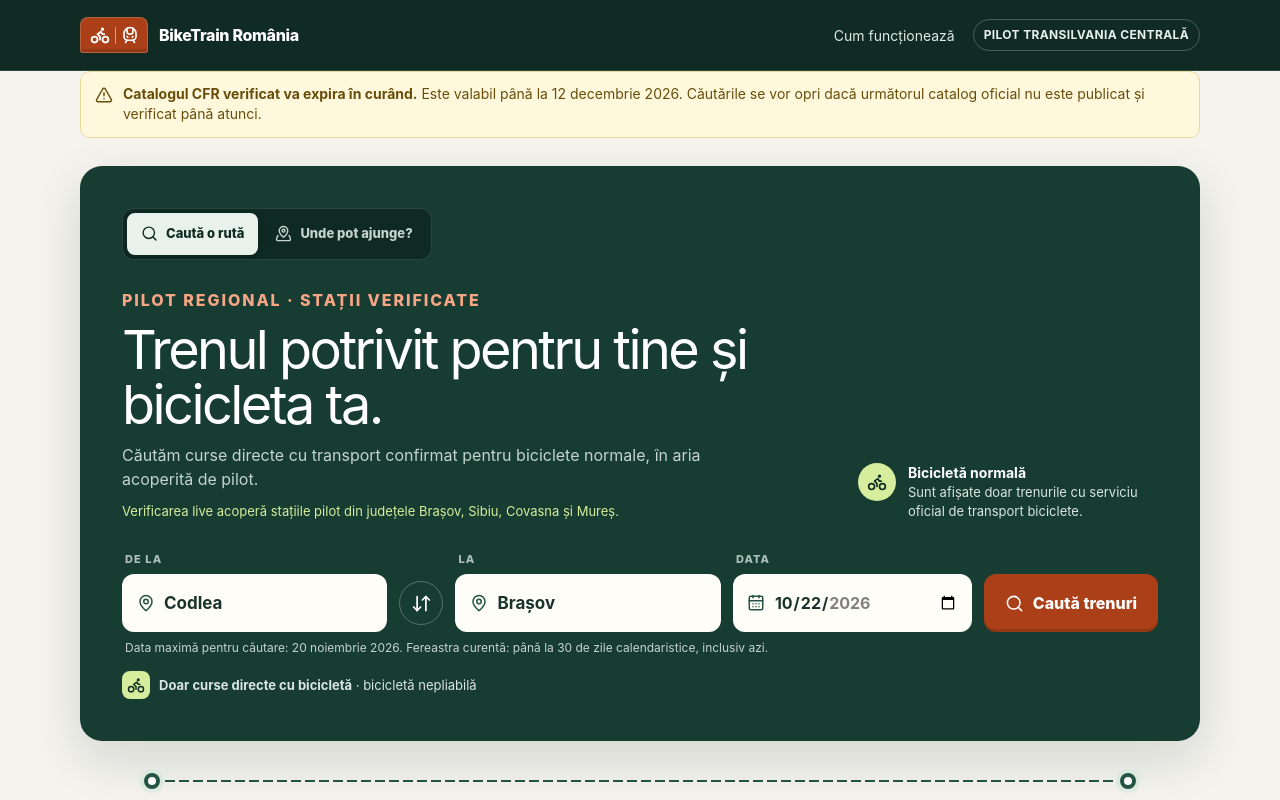
BikeTrain app › swaps departure and arrival stations
Expected: the dropdown labelled "De la" holds "Codlea", left=164, top=576, right=372, bottom=630
Expected: the dropdown labelled "La" holds "Brașov", left=497, top=576, right=706, bottom=630
Click the button named "Inversează direcția" at (421, 604), box left=399, top=582, right=443, bottom=626
(page scrolled)
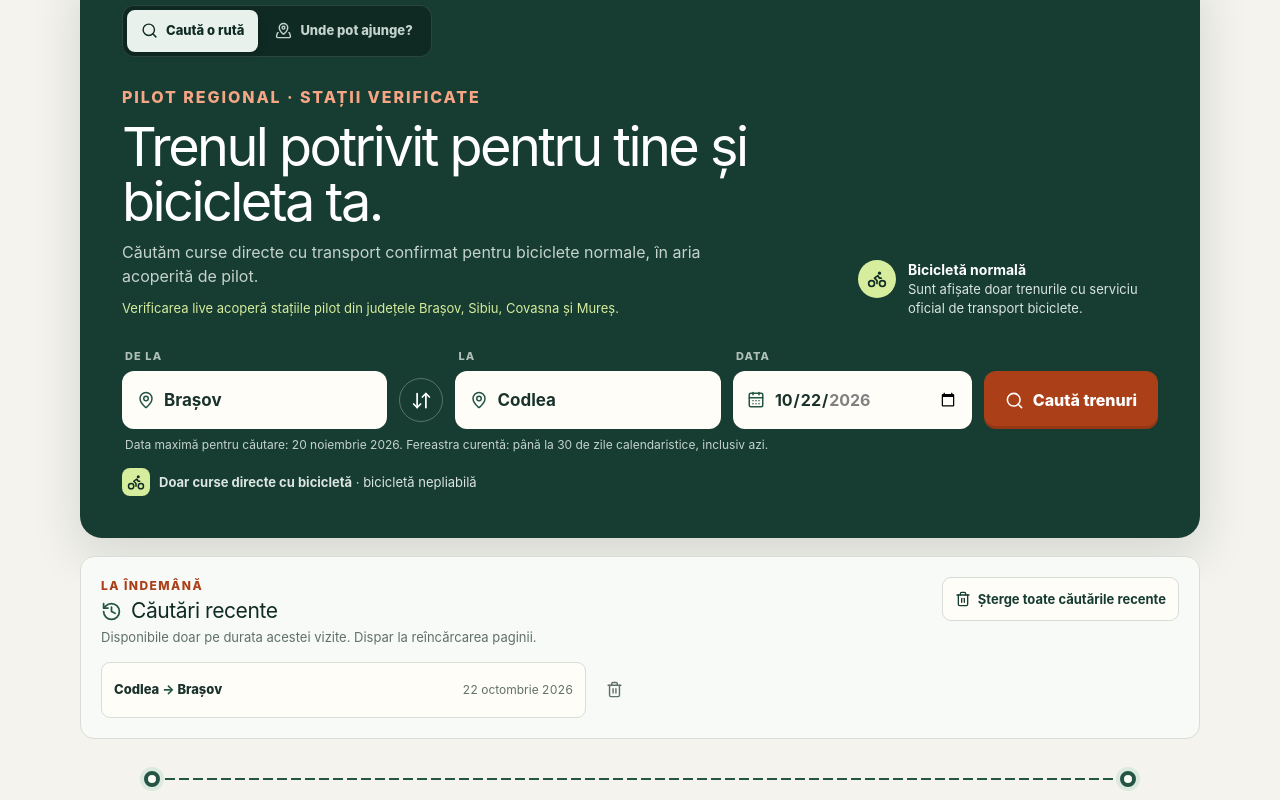
Expected: the dropdown labelled "De la" holds "Brașov", left=164, top=374, right=372, bottom=428
Expected: the dropdown labelled "La" holds "Codlea", left=497, top=374, right=706, bottom=428
